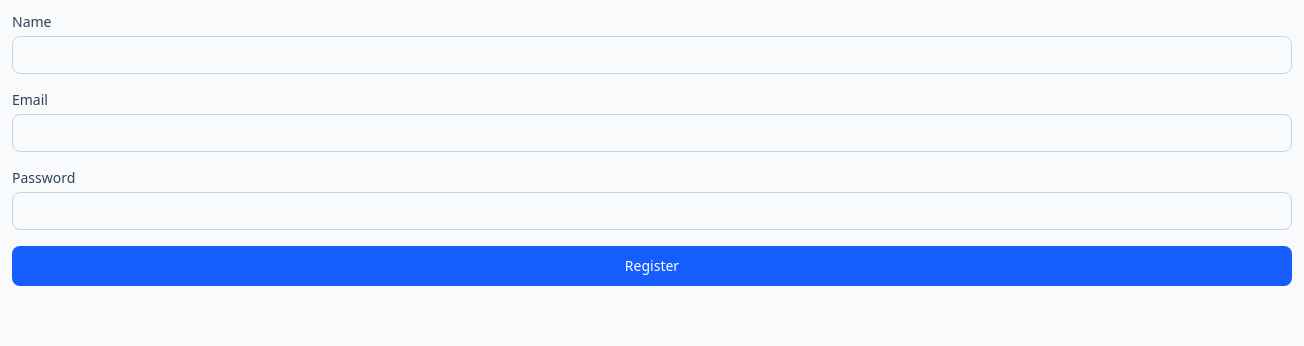
Test case: RegisterForm › falls back to generic error message if error has no message
In the field labelled "Name": (652, 55) [12,36,1292,74], type "Boris"
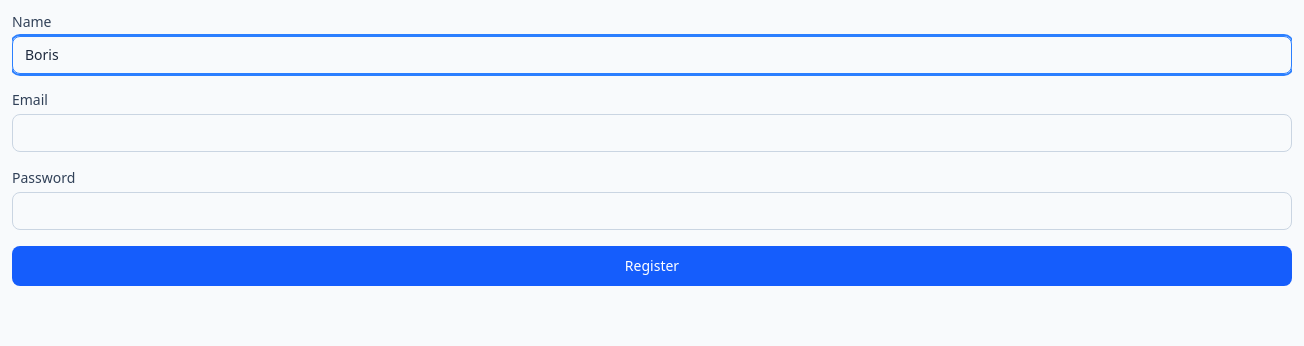
In the field labelled "Email": (652, 133) [12,114,1292,152], type "test@example.com"
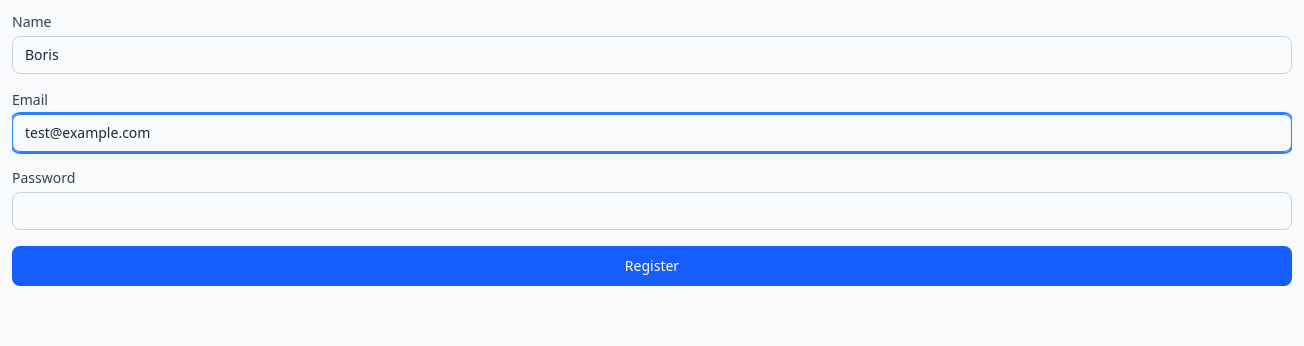
In the password field labelled "Password": (652, 211) [12,192,1292,230], type "password123"
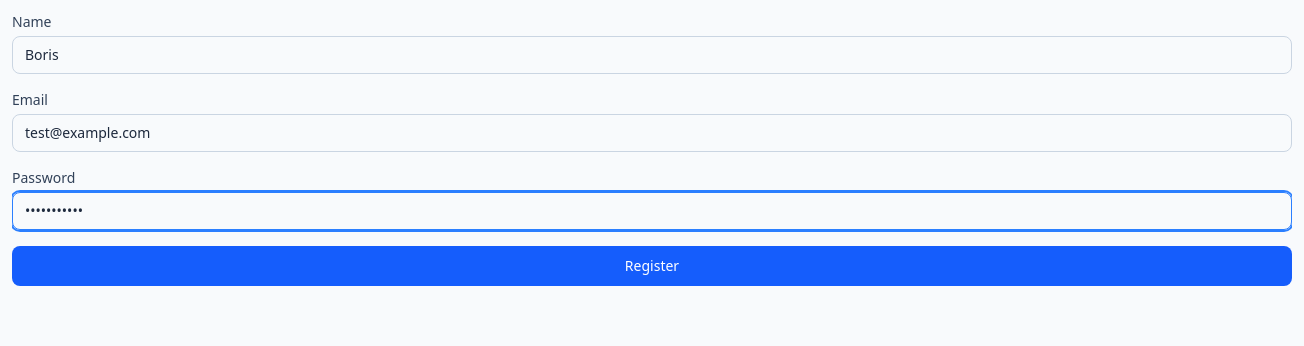
Click the button "Register": click(652, 266) [12,246,1292,286]
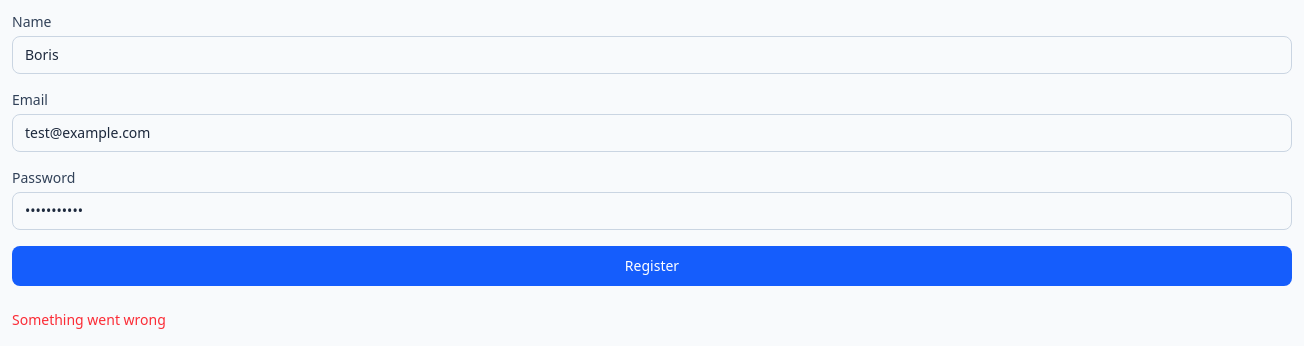
Result: the text "Something went wrong" is shown at [12,310,166,329]
